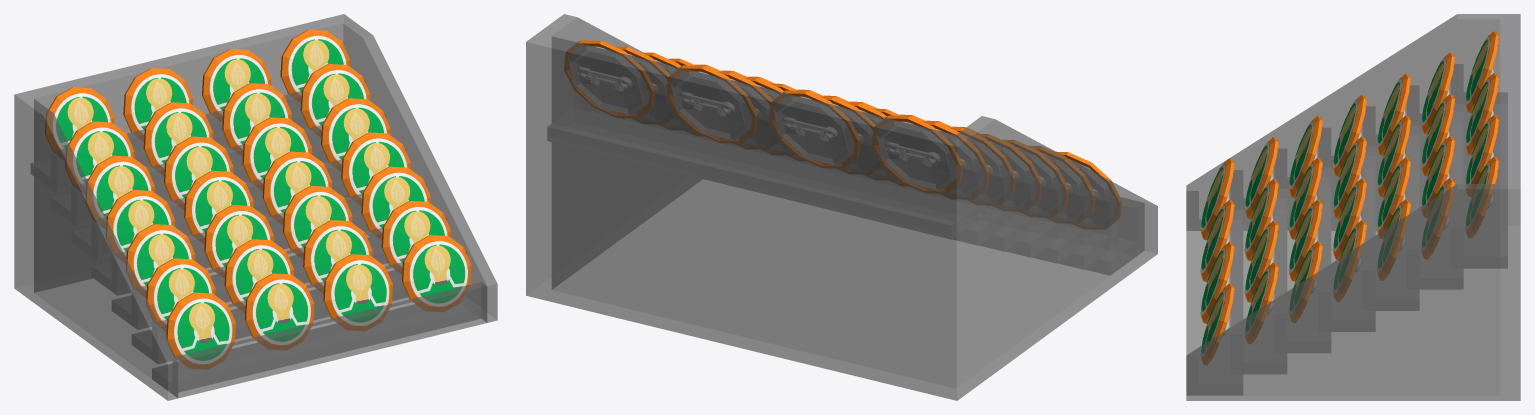
The model's file is ButtonPinGroup.fbx.
The picture shows the model from 3 angles, left to right: view 1: azimuth 30°, elevation 25°; view 2: azimuth 150°, elevation 25°; view 3: azimuth 270°, elevation 25°; orthographic projection. The views are drawn at different scales.
Visible parts, largest first — view 1: Pin_Holder_Body1, Pin_Holder_Edge1, Pin_Holder_Base1, Buttonpin6, Buttonpin5, Buttonpin4, Buttonpin7, Buttonpin24, Buttonpin26, Buttonpin22, Buttonpin20, Buttonpin25 (+31 smaller); view 2: Pin_Holder_Body1, Pin_Holder_Base7, Pin_Holder_Edge7, Buttonpin31, Buttonpin28, Buttonpin29, Buttonpin30, Pin_Holder_Edge3, Pin_Holder_Edge1, Pin_Holder_Edge5, Pin_Holder_Edge6, Pin_Holder_Edge4 (+16 smaller); view 3: Pin_Holder_Body1, Pin_Holder_Base7, Pin_Holder_Base1, Pin_Holder_Base2, Pin_Holder_Base4, Pin_Holder_Base3, Pin_Holder_Base5, Pin_Holder_Base6, Pin_Holder_Edge1, Pin_Holder_Edge2, Pin_Holder_Edge3, Pin_Holder_Edge4 (+31 smaller).
Part boxes in pixels (bbox=[...]): Pin_Holder_Body1: bbox=[14, 14, 497, 400]; Pin_Holder_Edge1: bbox=[172, 282, 487, 398]; Pin_Holder_Base1: bbox=[152, 302, 480, 393]; Buttonpin6: bbox=[244, 273, 314, 350]; Buttonpin5: bbox=[323, 254, 392, 330]; Buttonpin4: bbox=[402, 235, 471, 311]; Buttonpin7: bbox=[166, 292, 235, 369]; Buttonpin24: bbox=[300, 64, 370, 137]; Buttonpin26: bbox=[143, 102, 213, 175]; Buttonpin22: bbox=[164, 136, 233, 209]; Buttonpin20: bbox=[321, 98, 390, 171]; Buttonpin25: bbox=[222, 83, 291, 156]; Pin_Holder_Body1: bbox=[526, 14, 1157, 400]; Pin_Holder_Base7: bbox=[547, 108, 977, 239]; Pin_Holder_Edge7: bbox=[576, 86, 985, 219]; Buttonpin31: bbox=[872, 115, 962, 193]; Buttonpin28: bbox=[564, 40, 654, 118]; Buttonpin29: bbox=[667, 65, 757, 143]; Buttonpin30: bbox=[769, 90, 859, 168]; Pin_Holder_Edge3: bbox=[1065, 185, 1091, 243]; Pin_Holder_Edge1: bbox=[1118, 197, 1144, 255]; Pin_Holder_Edge5: bbox=[1012, 173, 1038, 231]; Pin_Holder_Edge6: bbox=[986, 167, 1011, 225]; Pin_Holder_Edge4: bbox=[1039, 179, 1064, 237]; Pin_Holder_Body1: bbox=[1186, 14, 1520, 400]; Pin_Holder_Base7: bbox=[1463, 92, 1507, 268]; Pin_Holder_Base1: bbox=[1199, 219, 1242, 395]; Pin_Holder_Base2: bbox=[1243, 198, 1286, 373]; Pin_Holder_Base4: bbox=[1331, 156, 1375, 331]; Pin_Holder_Base3: bbox=[1287, 177, 1330, 352]; Pin_Holder_Base5: bbox=[1375, 134, 1419, 310]; Pin_Holder_Base6: bbox=[1419, 113, 1463, 289]; Pin_Holder_Edge1: bbox=[1186, 191, 1198, 395]; Pin_Holder_Edge2: bbox=[1230, 170, 1243, 373]; Pin_Holder_Edge3: bbox=[1274, 148, 1287, 352]; Pin_Holder_Edge4: bbox=[1318, 127, 1331, 331].
Bounding box in the file's own units: 19.28 × 11.06 × 15.55.
Materials: 3 (1 with a texture image).
